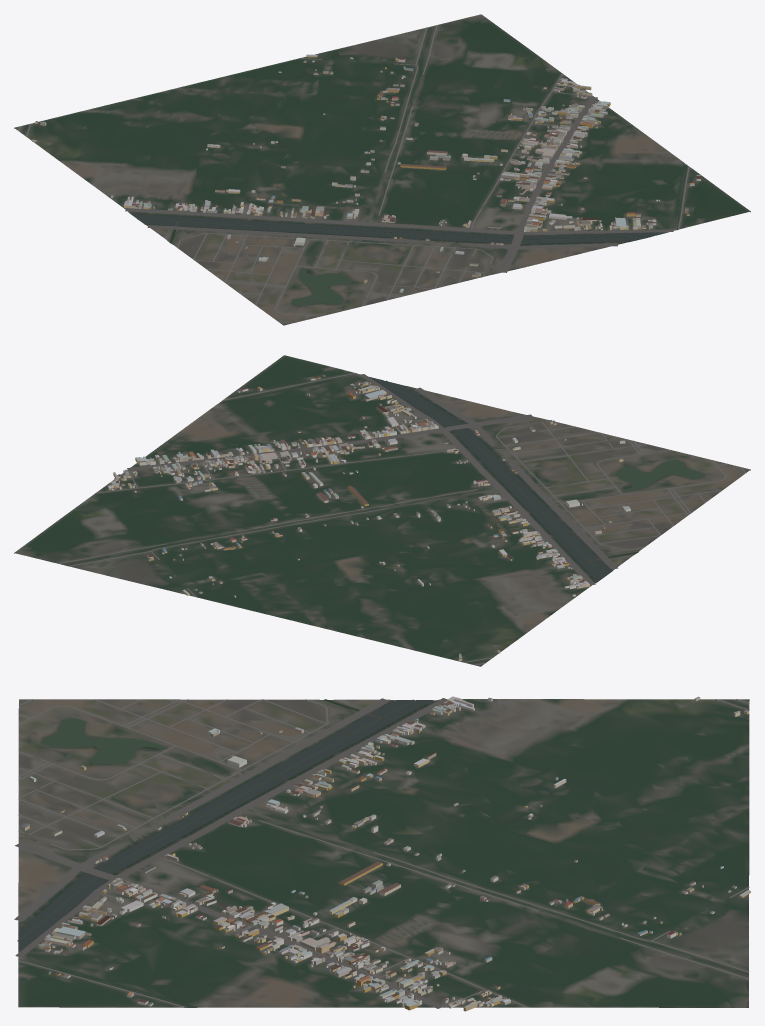
3 views of the same model, one above another, from view 1: azimuth 30°, elevation 25°; view 2: azimuth 150°, elevation 25°; view 3: azimuth 270°, elevation 25° (orthographic). The views are drawn at different scales.
Parts seen in each view (by area): view 1: ground, buildings, roads, water; view 2: ground, buildings, roads, water; view 3: ground, buildings, roads, water.
Part boxes in pixels (box(x1,y1,x2,y2)): ground: box(14, 14, 750, 325); buildings: box(32, 54, 700, 292); roads: box(18, 25, 689, 323); water: box(131, 164, 686, 306); ground: box(14, 355, 750, 666); buildings: box(108, 374, 630, 661); roads: box(58, 373, 745, 665); water: box(220, 373, 702, 581); ground: box(18, 699, 749, 1007); buildings: box(21, 696, 750, 1011); roads: box(14, 698, 749, 1008); water: box(17, 699, 432, 1007).
Size of the model in its own units: 1422 by 18.85 by 1413.
